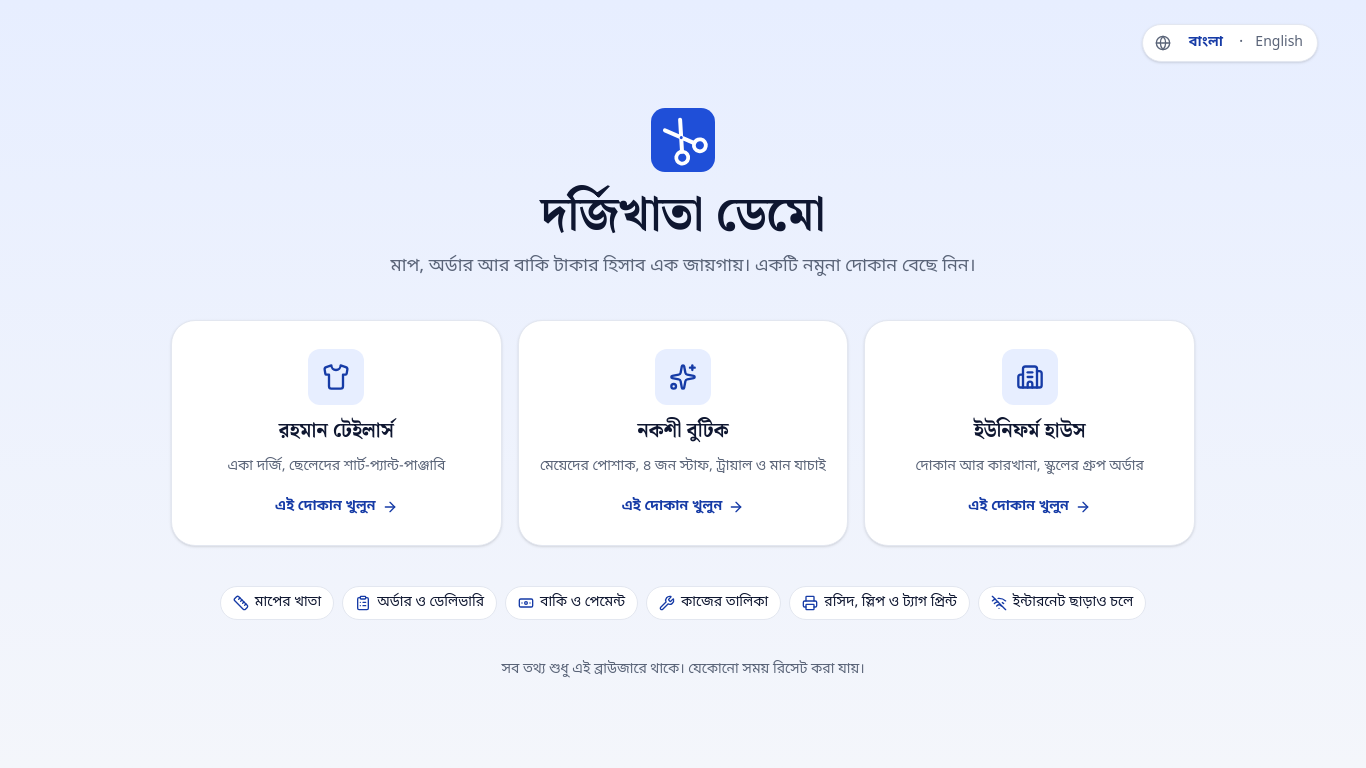
Test: App › opens a sample shop from the welcome screen into the desktop workspace
expect the heading "দর্জিখাতা ডেমো" is shown: met, box [541,192,825,240]
Click the button with aria-label "এই দোকান খুলুন: রহমান টেইলার্স" at (336,433), box [171,320,502,546]
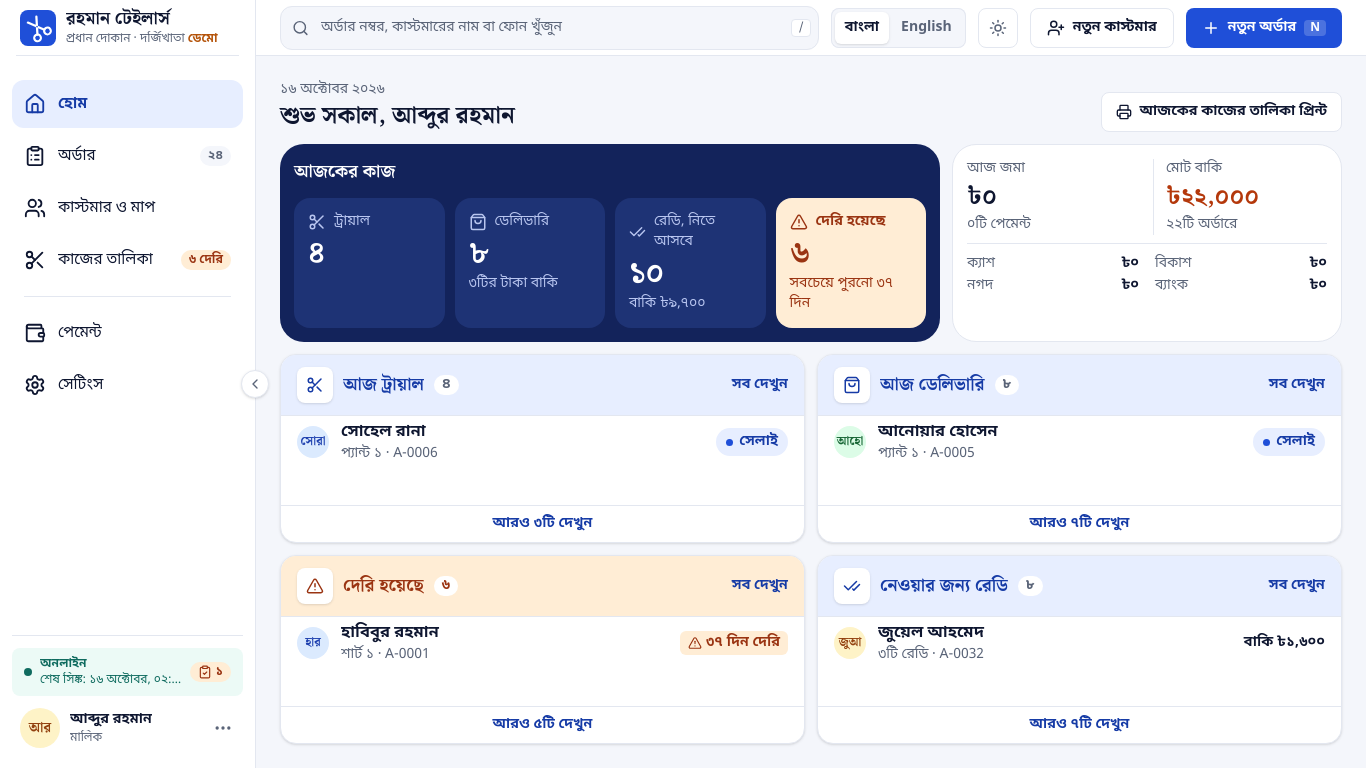
expect the text "প্রধান দোকান" is shown: met, box [66,31,130,47]
expect the link "হোম" is shown: met, box [12,80,243,128]
expect the link "অর্ডার ২৪" is shown: met, box [24,145,231,167]
